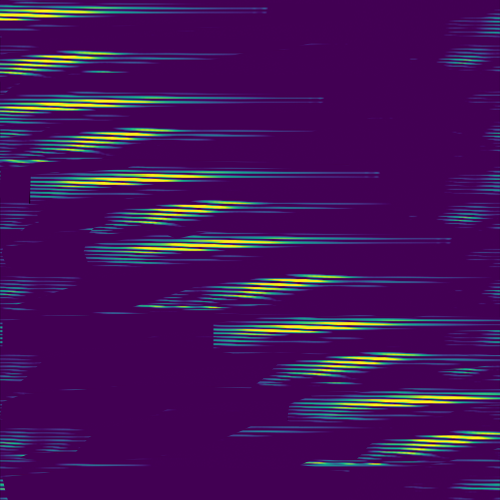semblance: (1, 126, 188, 169), (1, 92, 191, 116), (218, 269, 360, 301), (1, 47, 132, 79), (125, 234, 303, 257), (123, 197, 257, 226), (51, 166, 210, 190), (374, 429, 500, 457), (237, 317, 404, 338), (332, 391, 489, 412), (303, 349, 419, 377), (1, 4, 119, 24)
